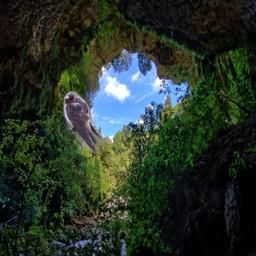Swallow: (63, 91, 103, 153)
